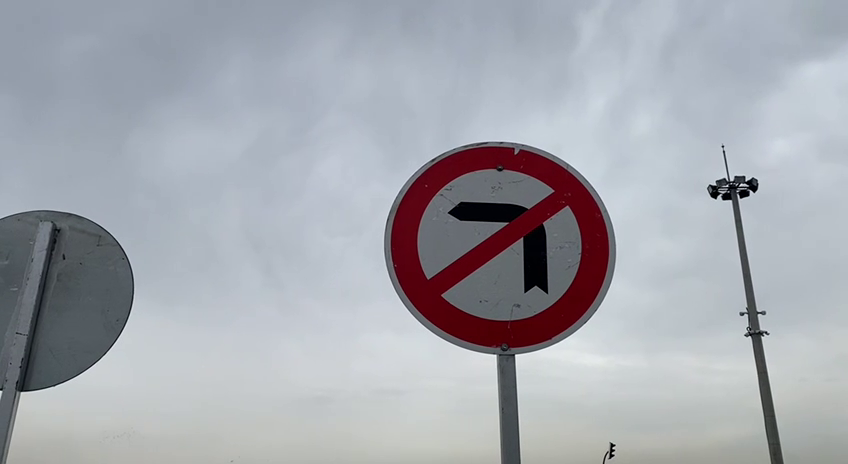noTurnLeft: (380, 136, 621, 359)
